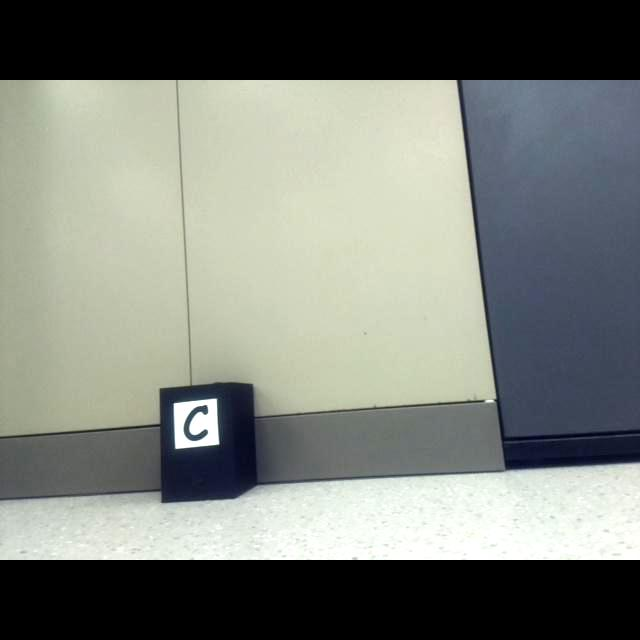C: (183, 405, 209, 442)
